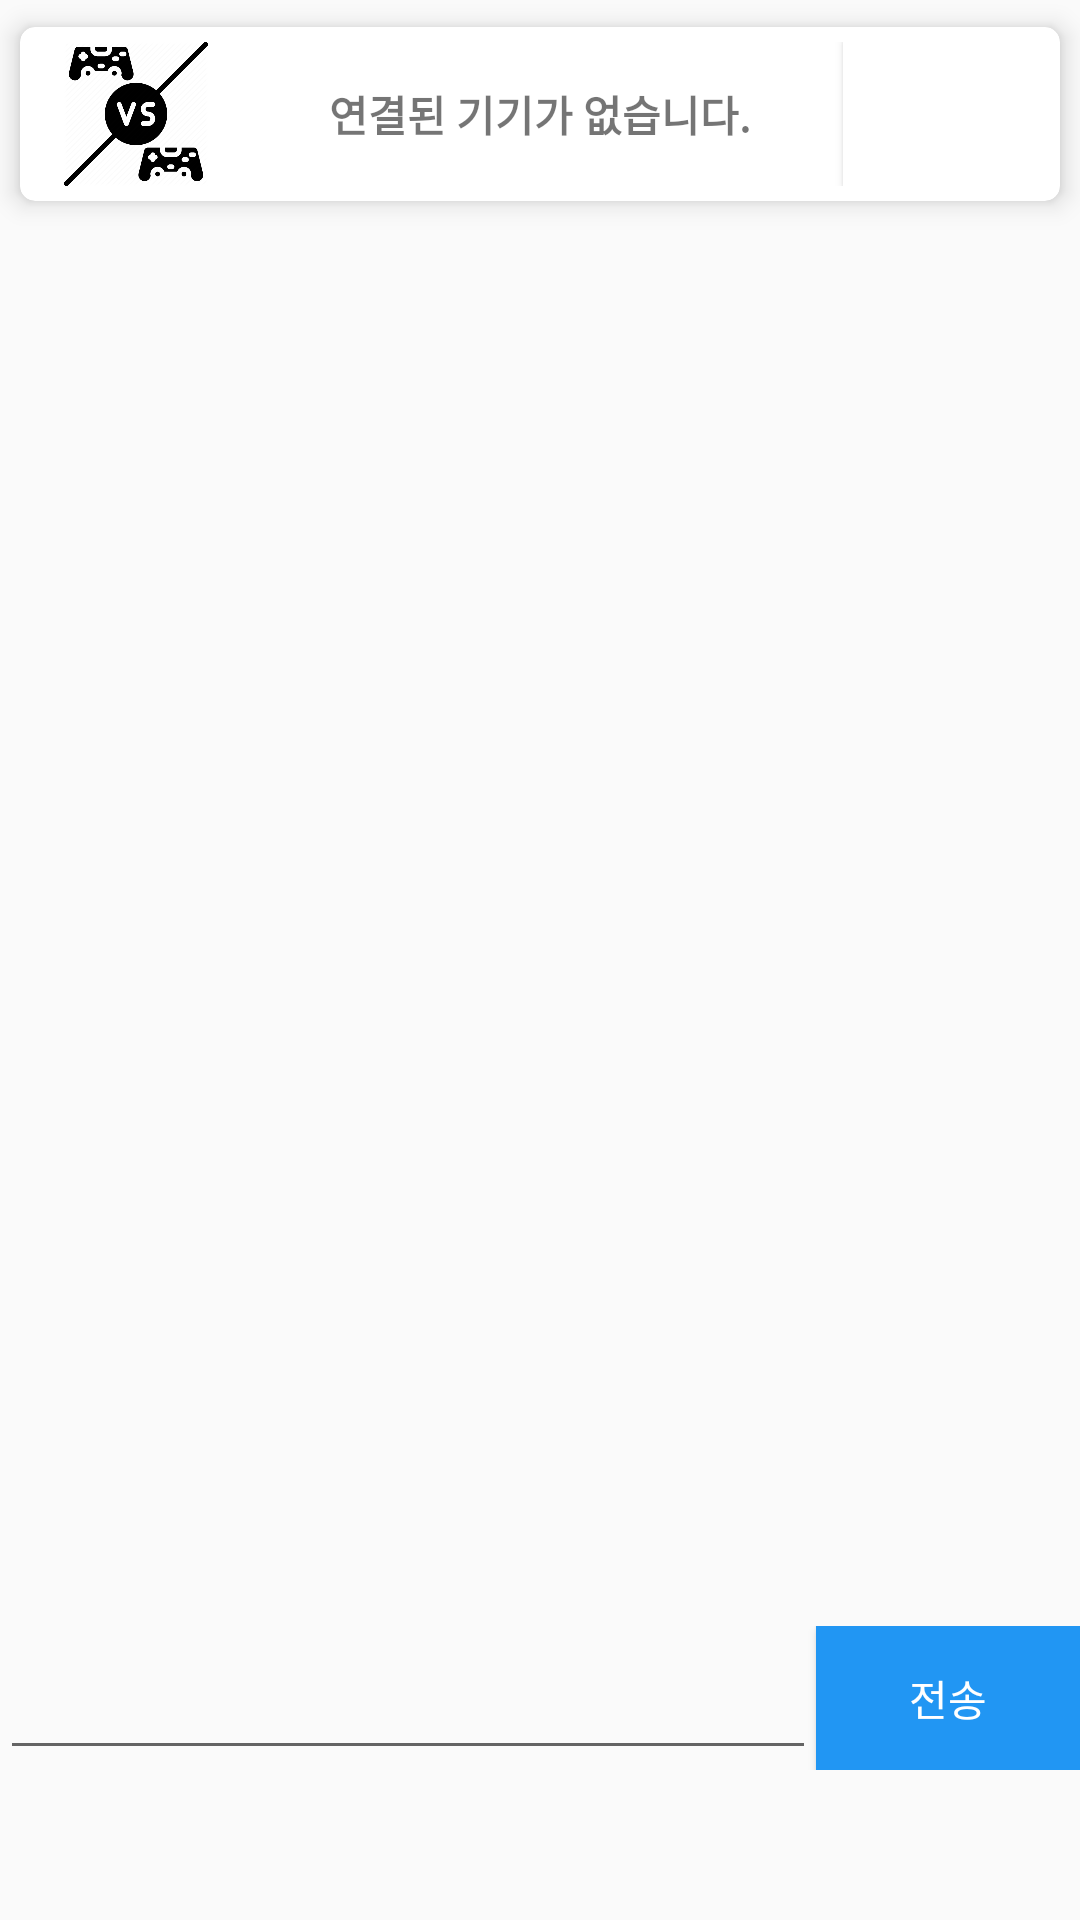

Where icons sit on this 1080px×1920px app screen, as (x1, y1, x2, y2):
multi: (64, 42, 208, 186)
